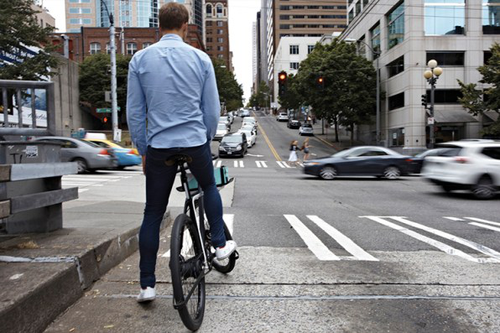bikerider: (117, 1, 263, 325)
